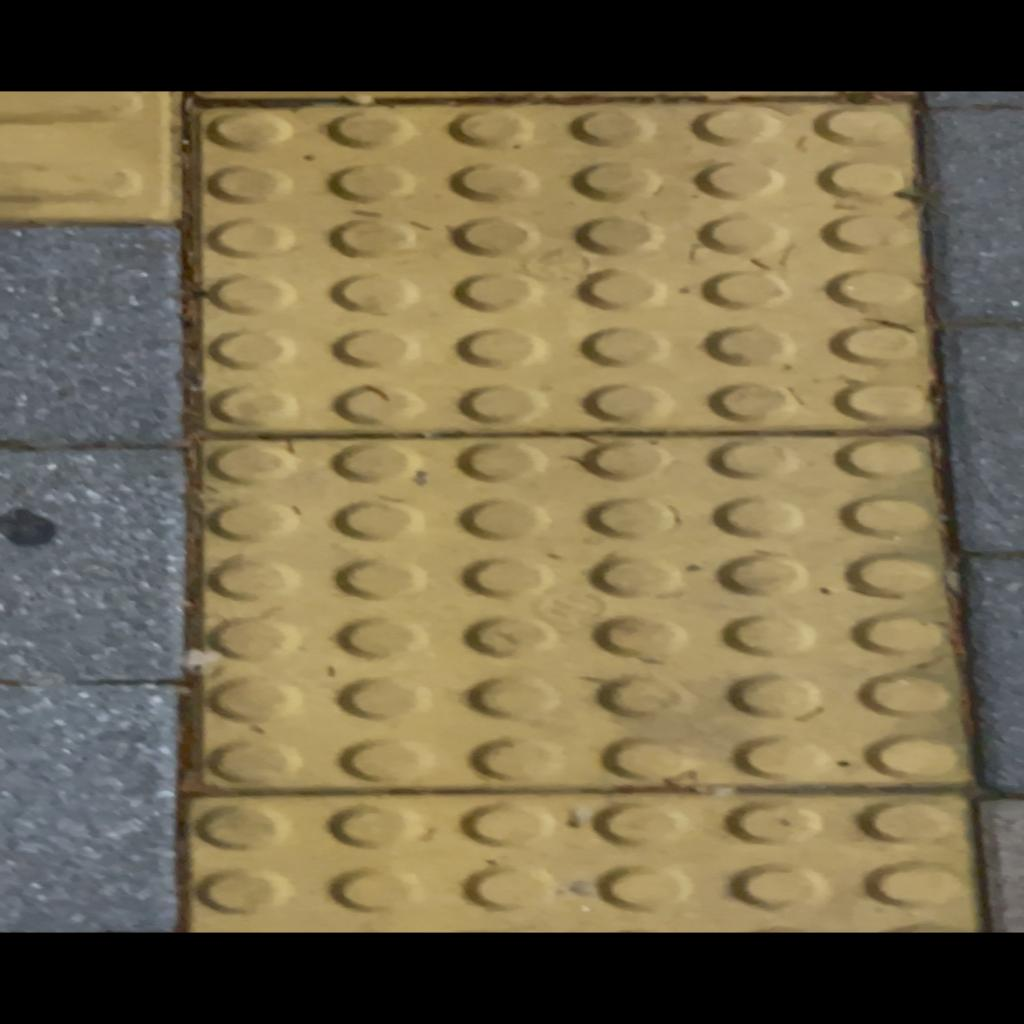Stop block normal: (211, 440, 941, 786)
